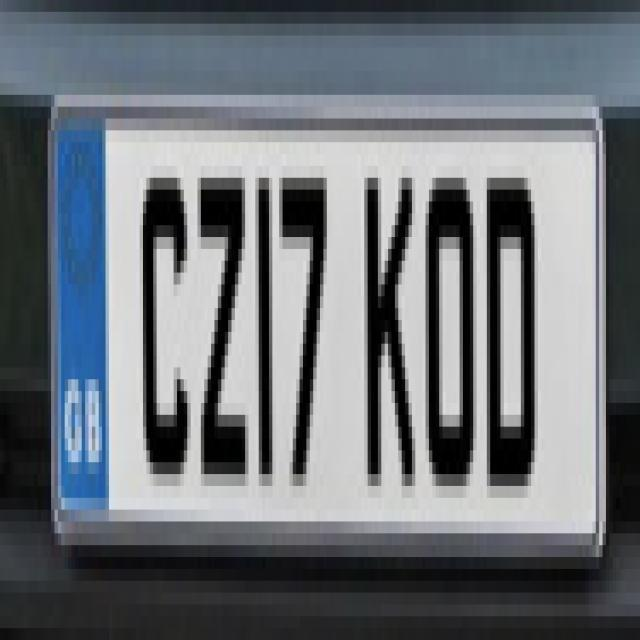0: (422, 135, 480, 520)
1: (250, 142, 280, 508)
7: (278, 135, 335, 492)
C: (137, 150, 192, 489)
D: (482, 146, 546, 502)
K: (360, 135, 420, 520)
Z: (192, 146, 252, 502)
